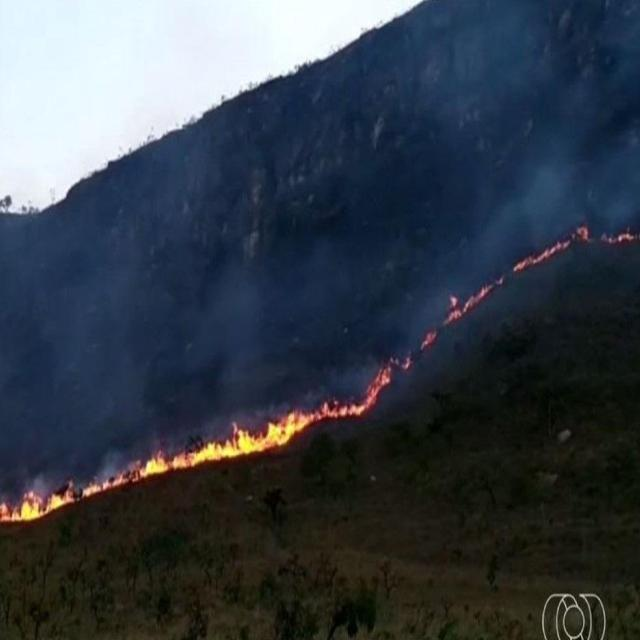Fire: (143, 400, 312, 470), (314, 358, 390, 419), (2, 470, 75, 531), (446, 276, 502, 322), (510, 237, 573, 268), (84, 472, 142, 496)
